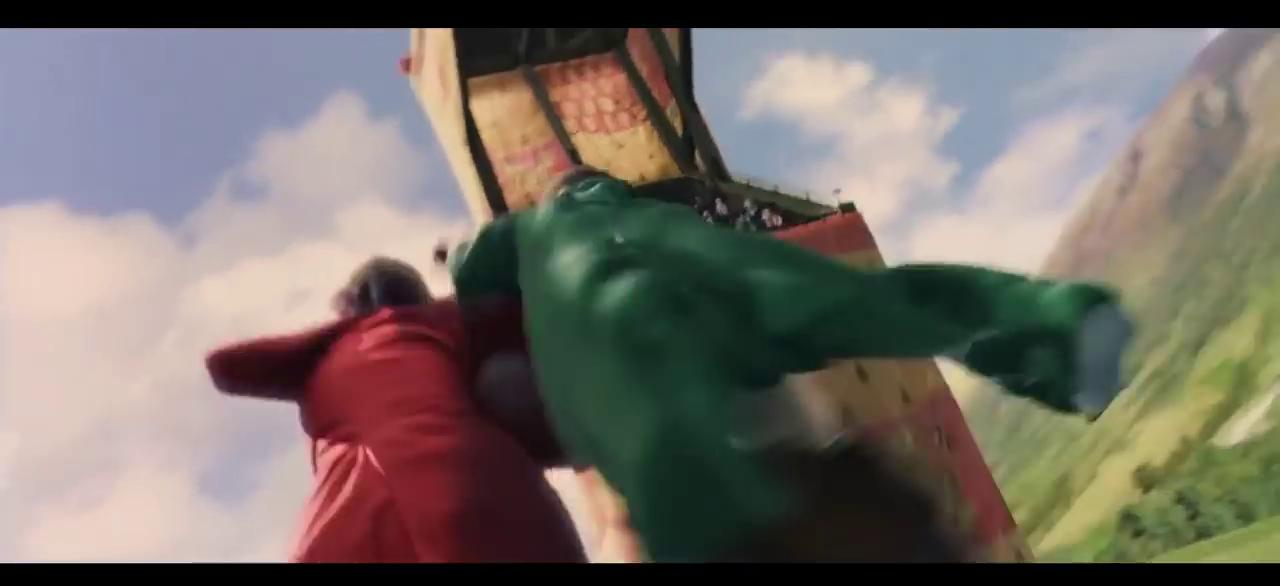quaffle: (473, 349, 559, 452)
